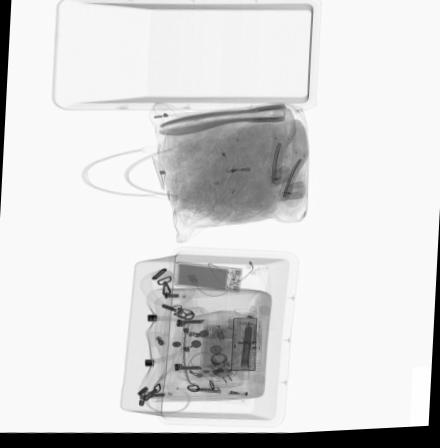Powerbank: (174, 264, 243, 297)
